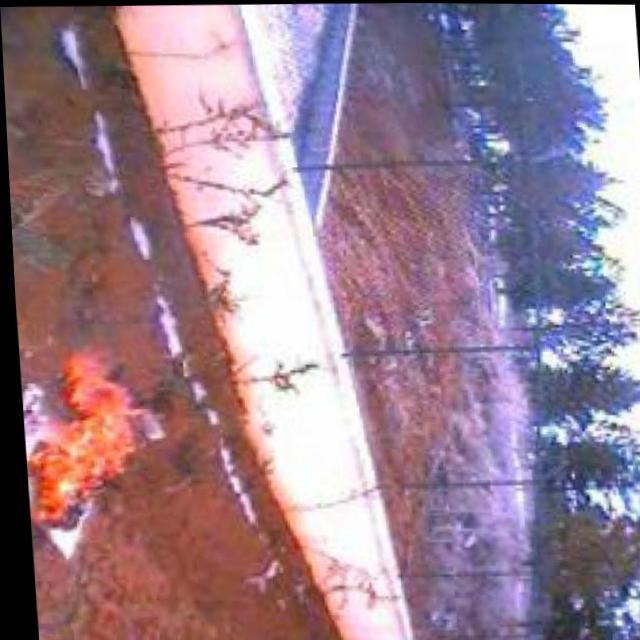Fire: (15, 348, 165, 537)
